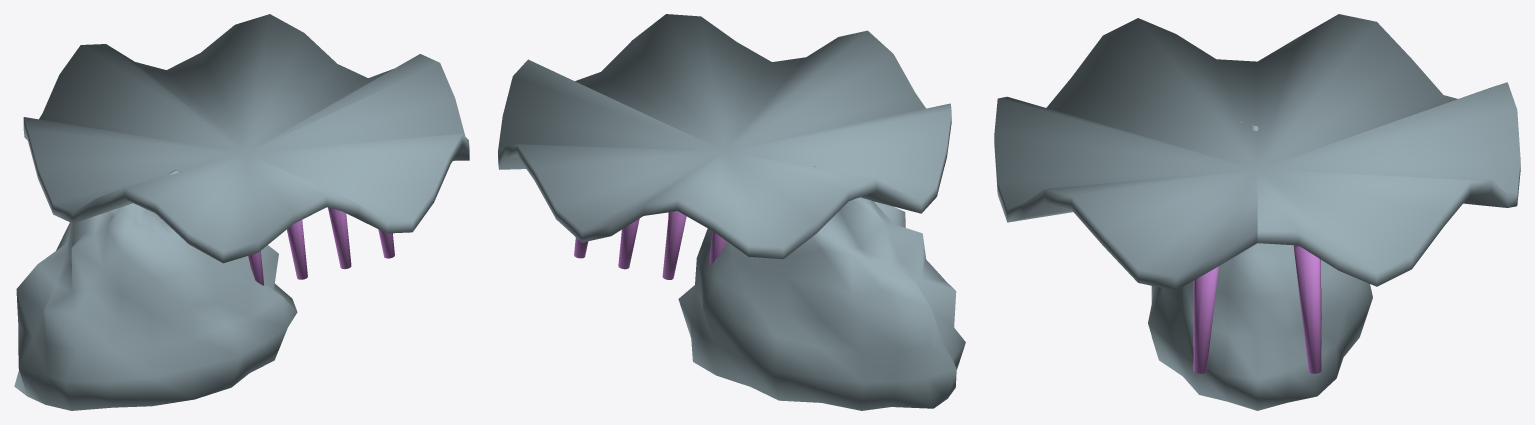
File: underwater-reef-worlds-overhang-soft-coral-18920291__7013.glb
The picture shows the model from 3 angles, left to right: view 1: azimuth 30°, elevation 25°; view 2: azimuth 150°, elevation 25°; view 3: azimuth 270°, elevation 25°; orthographic projection. The views are drawn at different scales.
Visible parts, largest first — view 1: overhang-soft-coral; view 2: overhang-soft-coral; view 3: overhang-soft-coral.
Part boxes in pixels (<box>): overhang-soft-coral: <box>14,14,469,410</box>; overhang-soft-coral: <box>498,14,965,410</box>; overhang-soft-coral: <box>994,14,1520,410</box>.
Size of the model in its own units: 1.74 by 0.9299 by 1.6.
